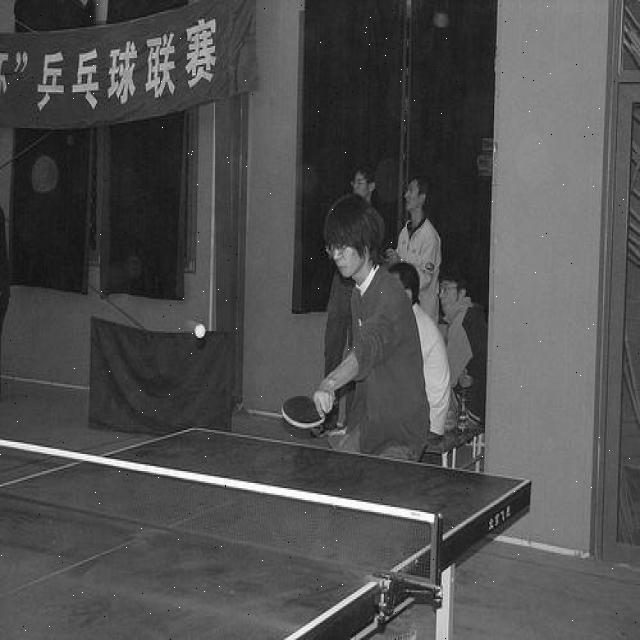ping-pong-ball: (194, 324, 206, 339)
